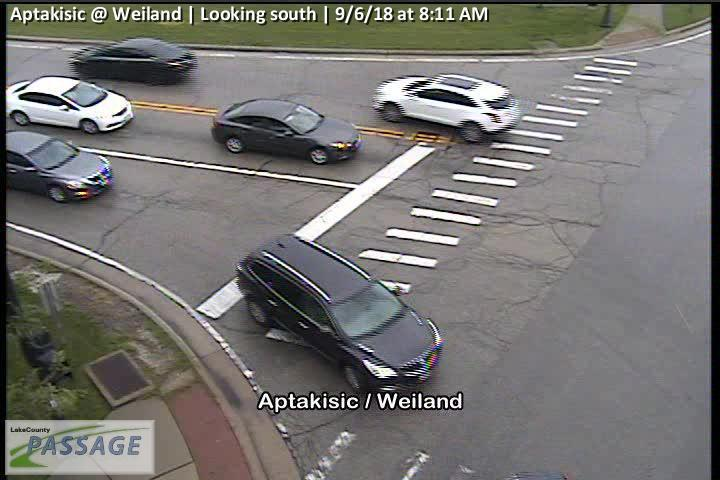SUV: (233, 234, 443, 395), (372, 75, 521, 143)
Sedan: (212, 99, 360, 163), (5, 131, 114, 204), (3, 76, 133, 135), (66, 36, 198, 85)
